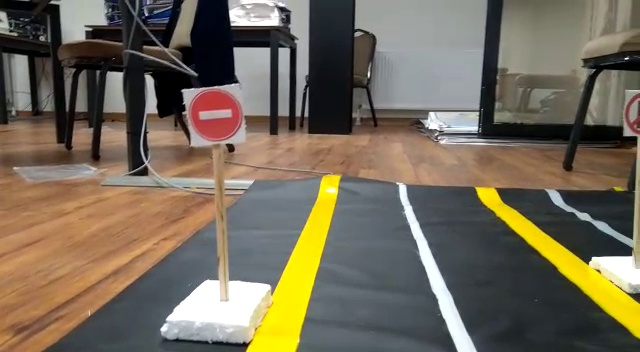girisi_olmayan_yol: (190, 87, 243, 141)
